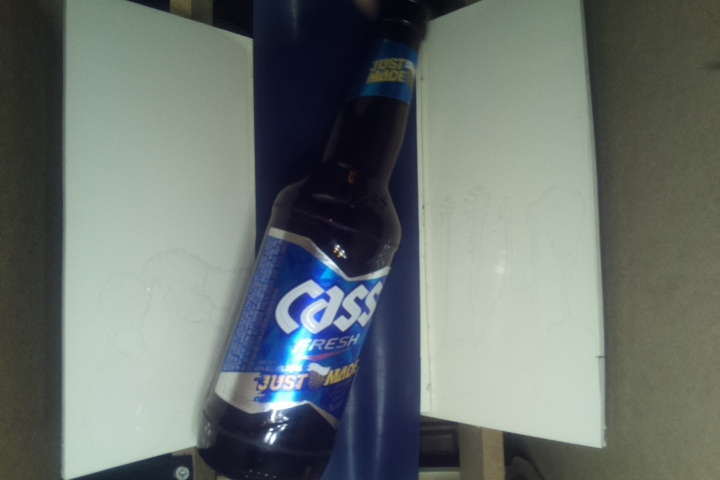makju: (186, 1, 438, 477)
